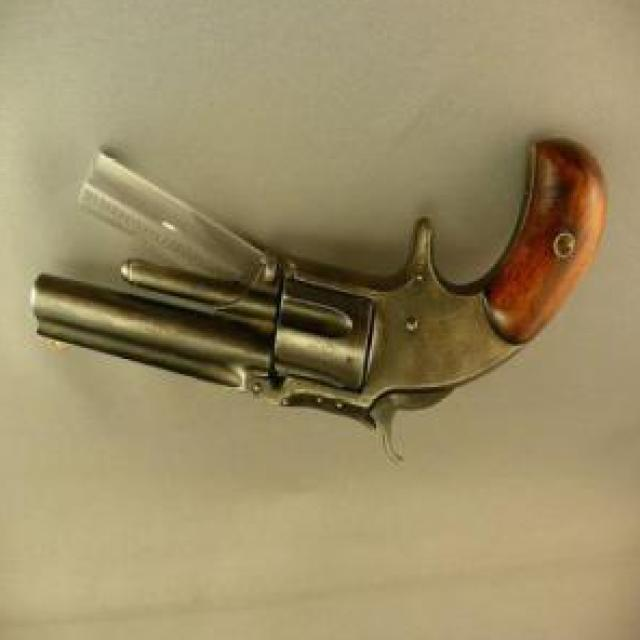pistol: (30, 136, 608, 467)
